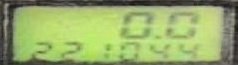-: (152, 32, 161, 39)
0: (162, 11, 198, 38), (118, 11, 151, 38), (116, 40, 138, 61)
1: (98, 41, 112, 60)
2: (57, 40, 81, 61), (28, 40, 51, 61)
4: (147, 41, 170, 59), (175, 41, 199, 58)
